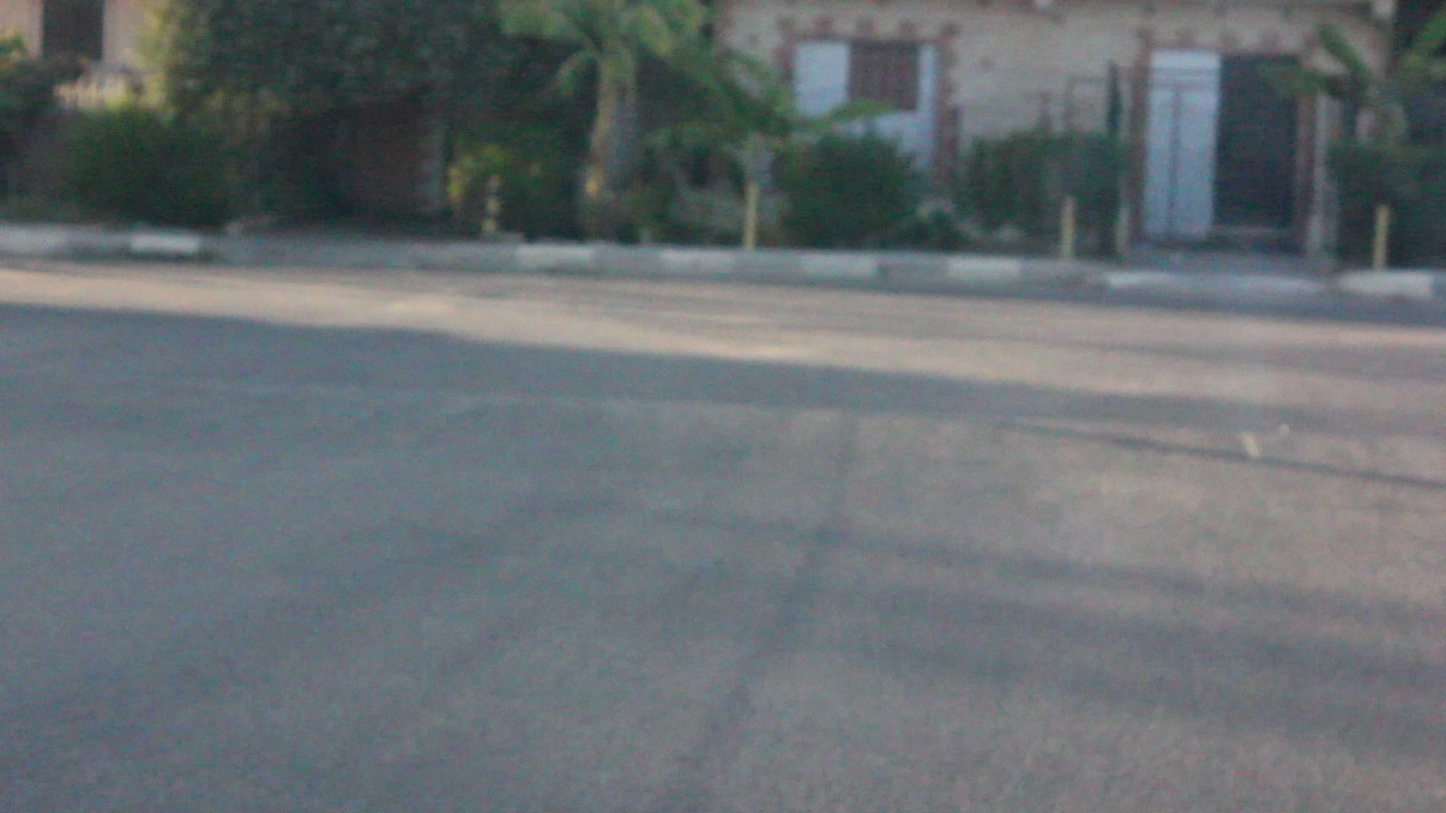Bump: (23, 373, 1446, 538)
